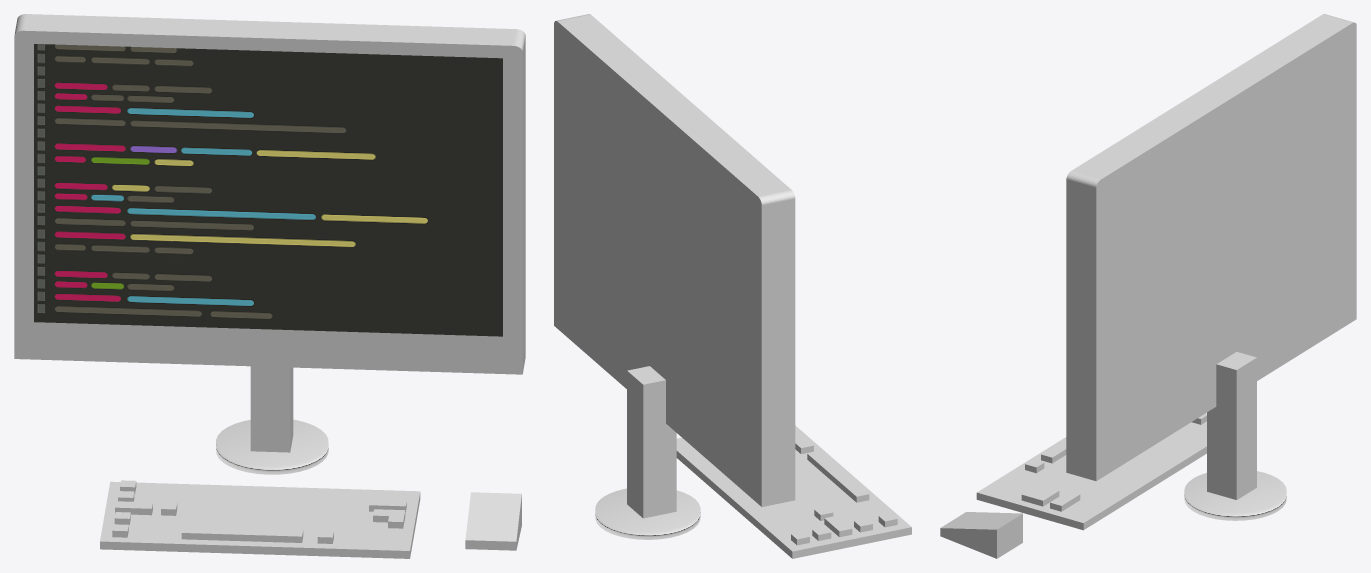
File: pcms.gltf
The picture shows the model from 3 angles, left to right: view 1: azimuth 30°, elevation 25°; view 2: azimuth 150°, elevation 25°; view 3: azimuth 270°, elevation 25°; orthographic projection. The views are drawn at different scales.
Parts seen in each view (by area): view 1: Cube, Cube.002, Cylinder, Cube.001, Cube.014, Cube.012; view 2: Cube, Cube.002, Cube.001, Cylinder, Cube.012; view 3: Cube, Cube.002, Cube.001, Cylinder, Cube.014.
Part boxes in pixels (left/top/right/bottom): Cube: left=14, top=14, right=525, bottom=374; Cube.002: left=100, top=481, right=420, bottom=558; Cylinder: left=216, top=419, right=328, bottom=474; Cube.001: left=250, top=366, right=293, bottom=452; Cube.014: left=465, top=492, right=521, bottom=550; Cube.012: left=181, top=526, right=303, bottom=542; Cube: left=554, top=14, right=795, bottom=506; Cube.002: left=676, top=425, right=911, bottom=558; Cube.001: left=627, top=366, right=676, bottom=518; Cylinder: left=595, top=488, right=700, bottom=539; Cube.012: left=807, top=451, right=869, bottom=502; Cube: left=1066, top=14, right=1356, bottom=481; Cube.002: left=976, top=421, right=1206, bottom=530; Cube.001: left=1207, top=352, right=1256, bottom=499; Cylinder: left=1184, top=471, right=1286, bottom=520; Cube.014: left=940, top=512, right=1022, bottom=558.
Bounding box in the file's own units: 20.35 × 21.28 × 19.97.
2 materials, 1 textured.
